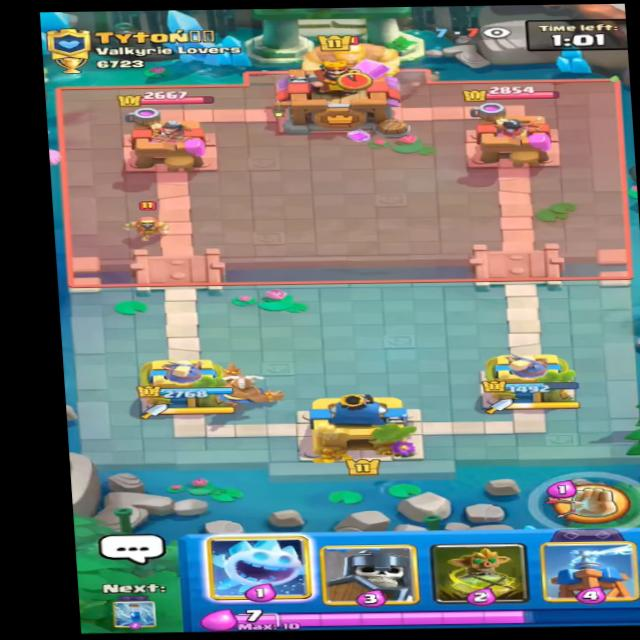giant: (292, 33, 412, 84)
wizard: (123, 199, 175, 239)
